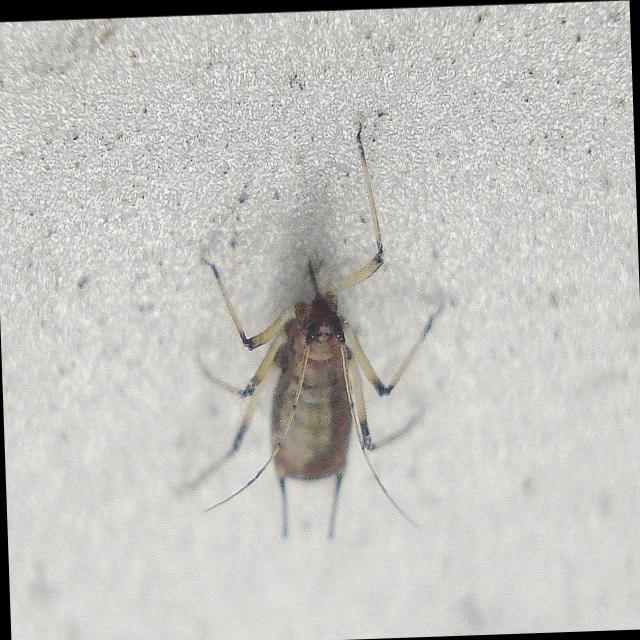Aphid: (194, 148, 451, 532)
